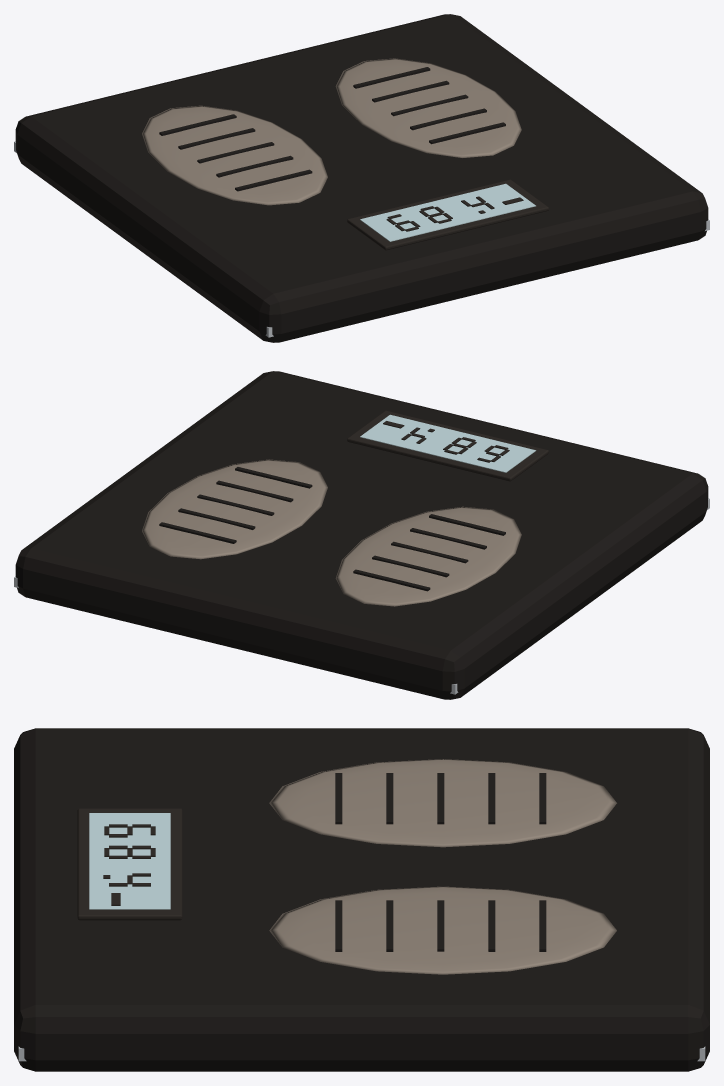
File: hh_cat_bath_scales.glb
3 renders of one model, top to bottom at view 1: azimuth 30°, elevation 25°; view 2: azimuth 150°, elevation 25°; view 3: azimuth 270°, elevation 25°, orthographic. The views are drawn at different scales.
Parts seen in each view (by area): view 1: body, foot_pad, foot_pad.001, display, display_bezel; view 2: body, foot_pad, foot_pad.001, display, display_bezel; view 3: body, foot_pad.001, foot_pad, display, display_bezel.
Boxes of the visible parts, x1=… form: body: x1=15, y1=14, x2=708, y2=342; foot_pad: x1=142, y1=105, x2=327, y2=205; foot_pad.001: x1=335, y1=58, x2=521, y2=157; display: x1=360, y1=183, x2=535, y2=241; display_bezel: x1=347, y1=179, x2=548, y2=250; body: x1=15, y1=371, x2=708, y2=699; foot_pad: x1=335, y1=506, x2=521, y2=606; foot_pad.001: x1=142, y1=459, x2=327, y2=559; display: x1=360, y1=414, x2=536, y2=472; display_bezel: x1=347, y1=410, x2=548, y2=481; body: x1=14, y1=728, x2=709, y2=1071; foot_pad.001: x1=269, y1=886, x2=616, y2=974; foot_pad: x1=269, y1=759, x2=616, y2=847; display: x1=89, y1=813, x2=170, y2=909; display_bezel: x1=77, y1=808, x2=182, y2=920.
Bounding box in the file's own units: 0.3 × 0.04 × 0.3.
